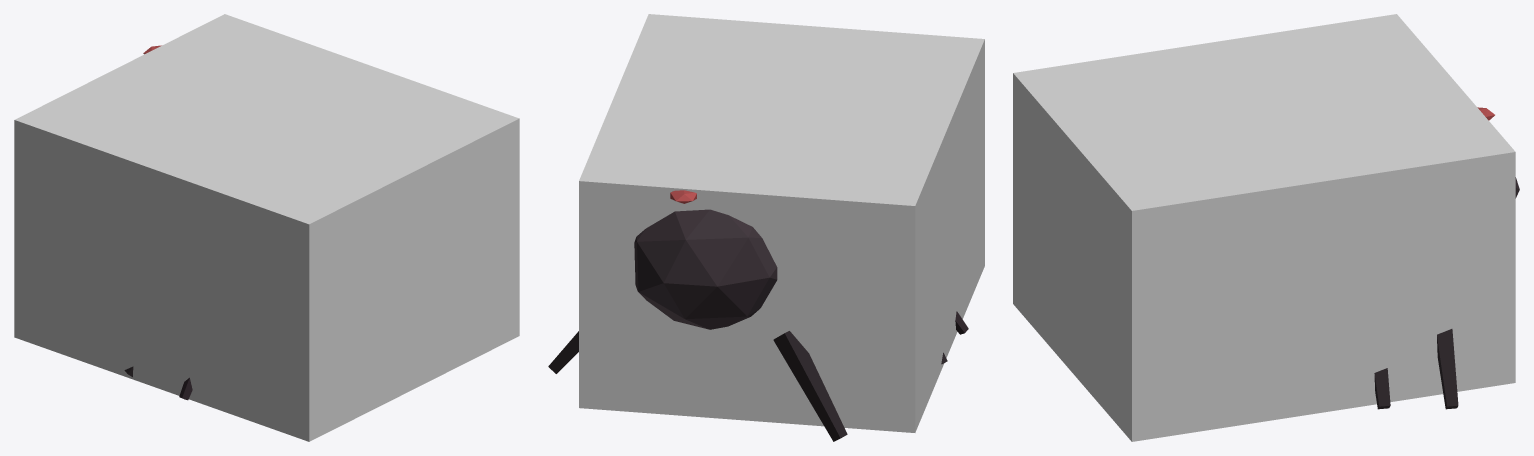
The model's file is plains_pet6.fbx.
The picture shows the model from 3 angles, left to right: view 1: azimuth 30°, elevation 25°; view 2: azimuth 150°, elevation 25°; view 3: azimuth 270°, elevation 25°; orthographic projection. The views are drawn at different scales.
Visible parts, largest first — view 1: Root__0.00_0.39_0.08__1.10_0.81_1.29; view 2: Root__0.00_0.39_0.08__1.10_0.81_1.29, Abdomen__Body__0.00_0.43_0.21, Body__Root__0.00_0.36_0.00; view 3: Root__0.00_0.39_0.08__1.10_0.81_1.29, Body__Root__0.00_0.36_0.00.
Part boxes in pixels (box(x1,y1,x2,y2)): Root__0.00_0.39_0.08__1.10_0.81_1.29: box(14, 14, 519, 441); Root__0.00_0.39_0.08__1.10_0.81_1.29: box(579, 14, 984, 432); Abdomen__Body__0.00_0.43_0.21: box(634, 190, 777, 329); Body__Root__0.00_0.36_0.00: box(548, 311, 968, 441); Root__0.00_0.39_0.08__1.10_0.81_1.29: box(1013, 14, 1515, 441); Body__Root__0.00_0.36_0.00: box(1374, 329, 1458, 409).
Bounding box in the file's own units: 41.35 × 22.61 × 44.96.
Materials: 1 (1 with a texture image).
